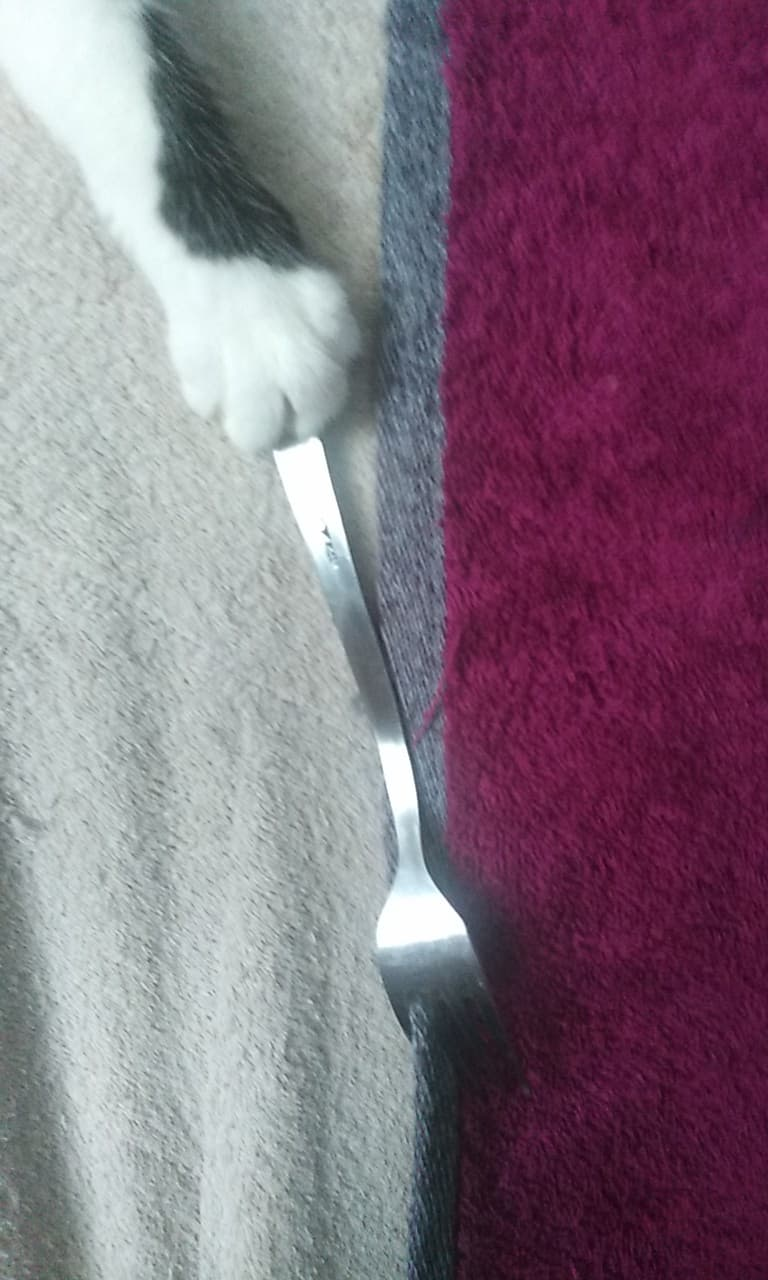Widelec: (354, 872, 547, 1103)
